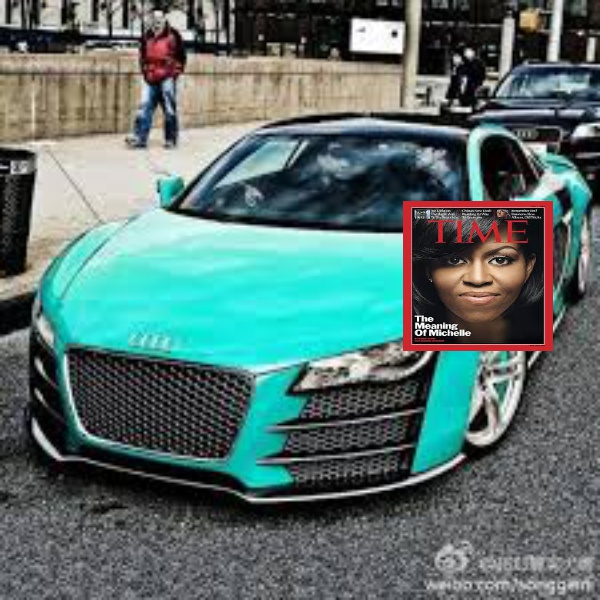time_cover: (398, 199, 555, 349)
